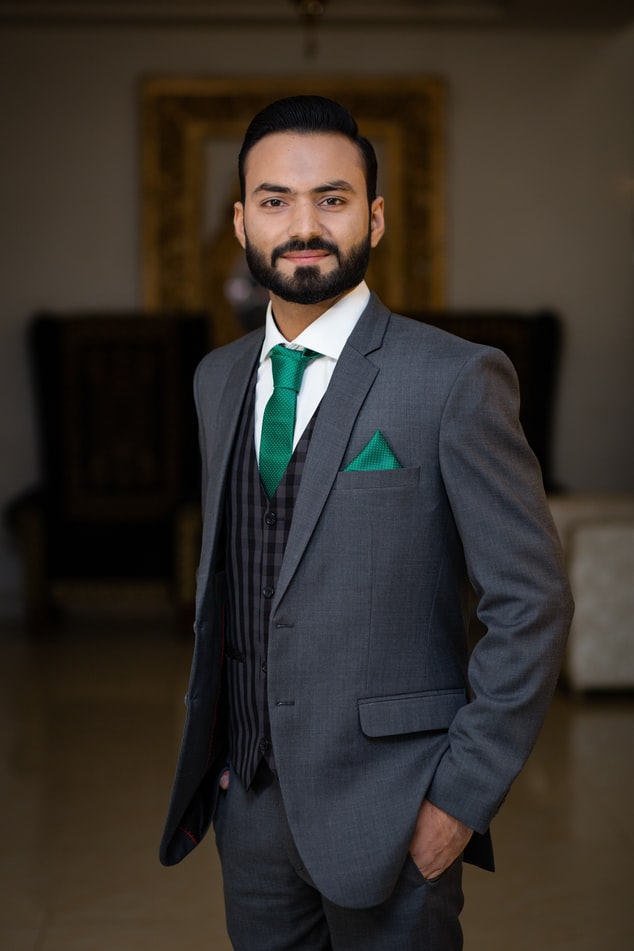beard: (234, 229, 380, 301)
tie: (259, 344, 322, 497)
